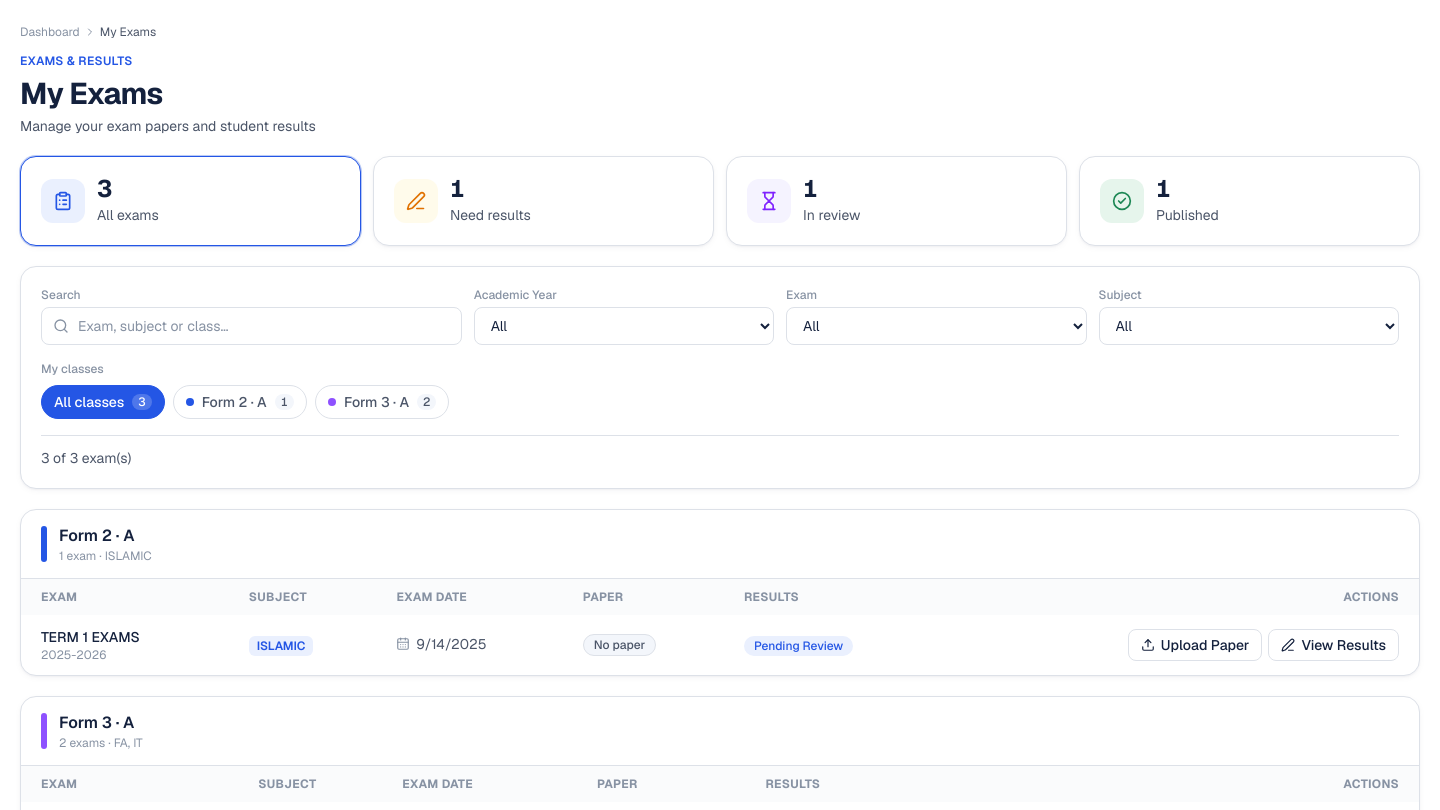
Test: My Exams — grouped by class › filters by what the teacher still has to do
The width and height of the screenshot is (1440, 810).
Click the button "1 Need results" at [416, 201], box [373,156,714,246]
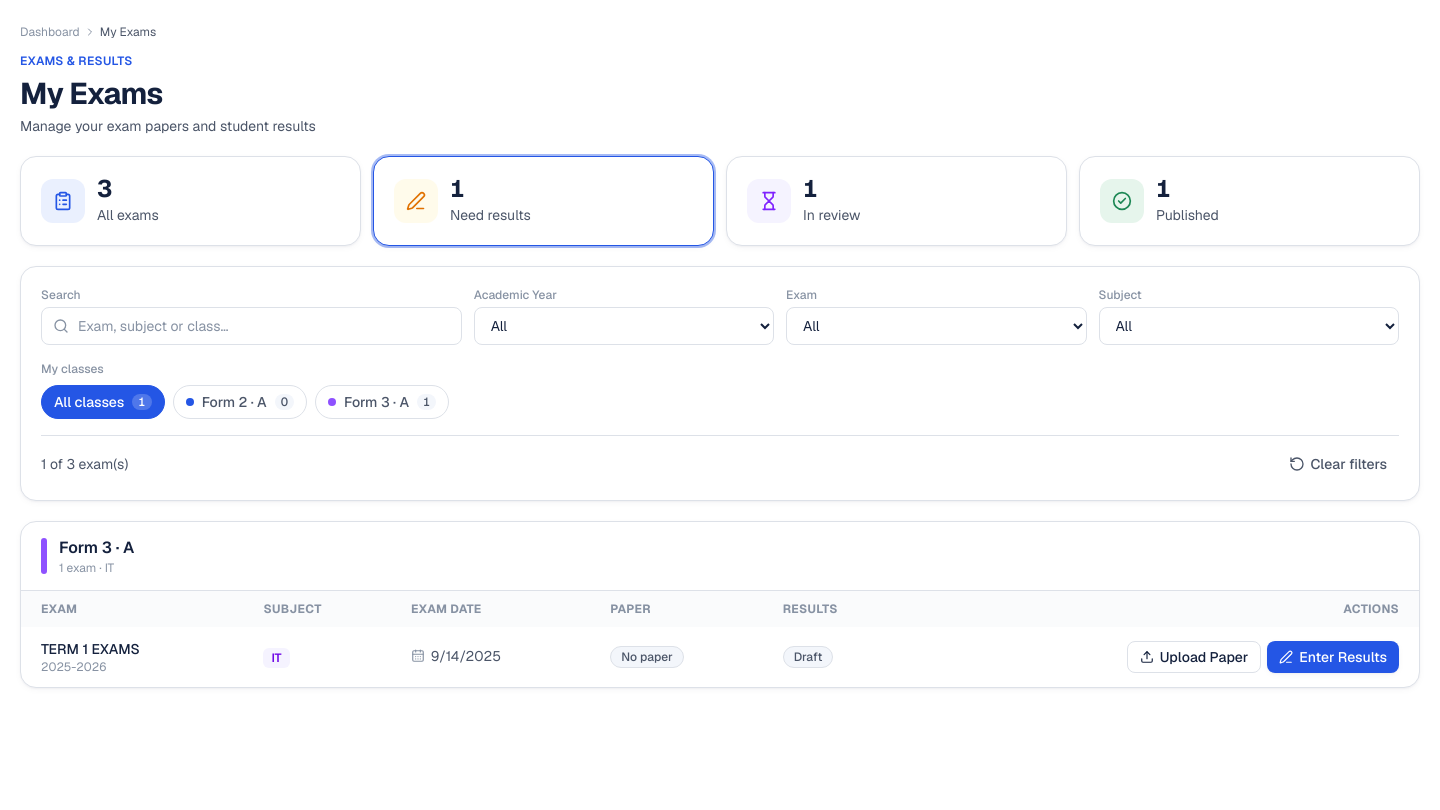
Check: the text "FA" is gone
Click the button "Clear filters" at [1338, 464], box [1276,448,1399,480]
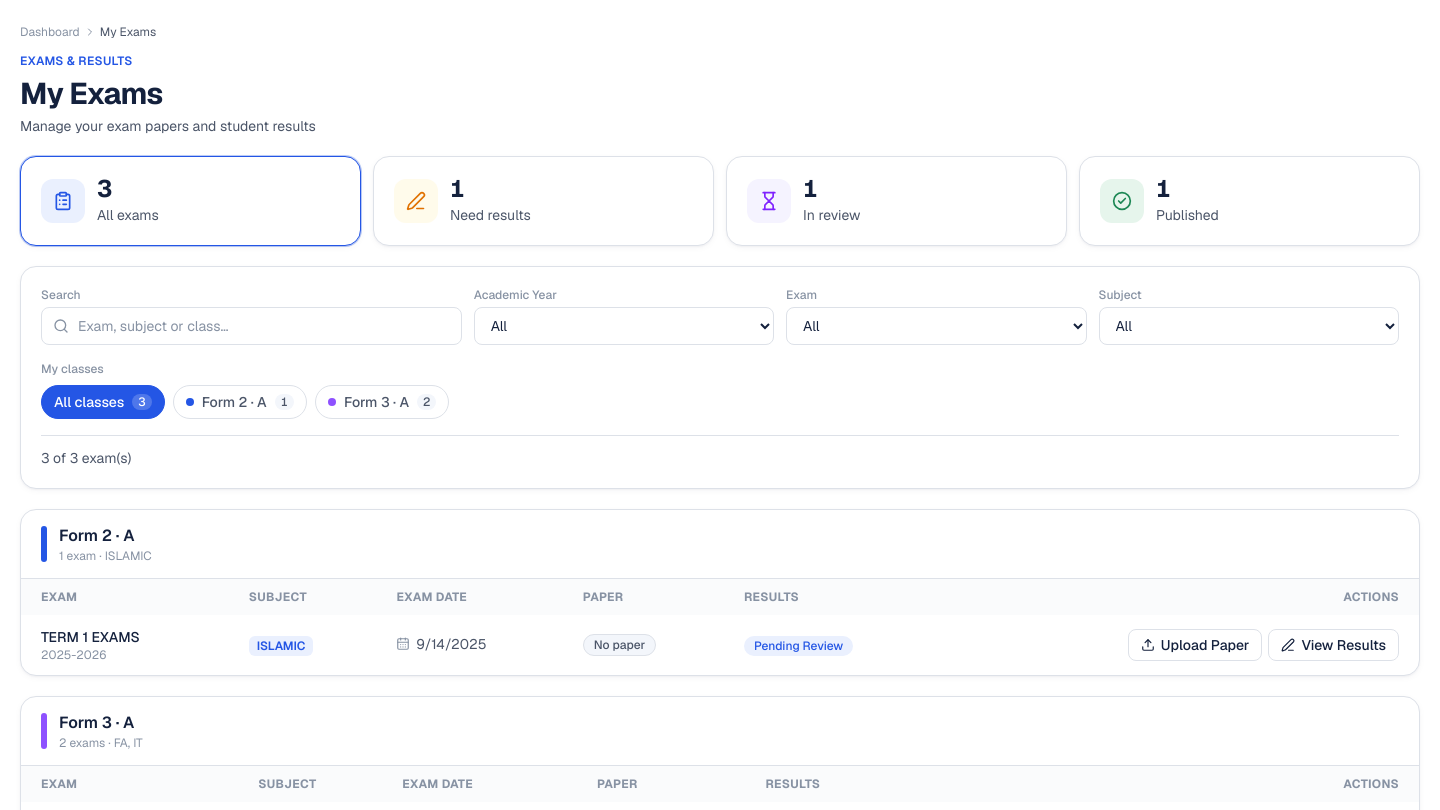
Check: the text "3 of 3 exam(s)" is shown, box [41,448,132,468]
